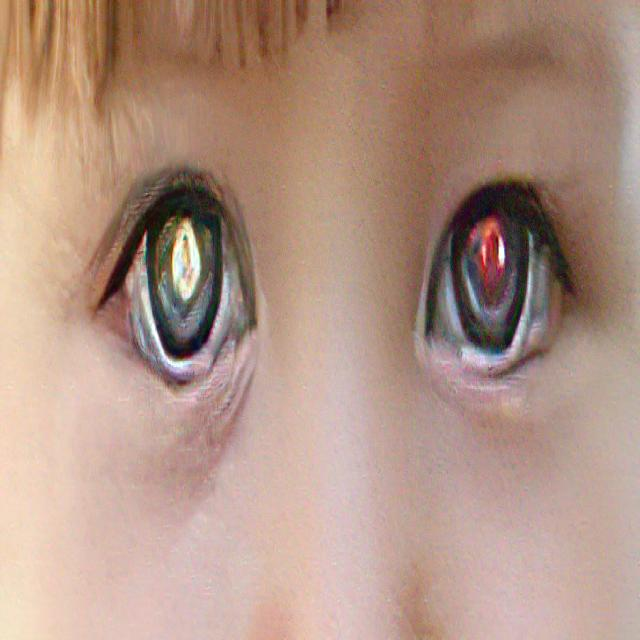reflexo-alterado: (95, 182, 258, 385)
reflexo-normal: (425, 198, 556, 394)
